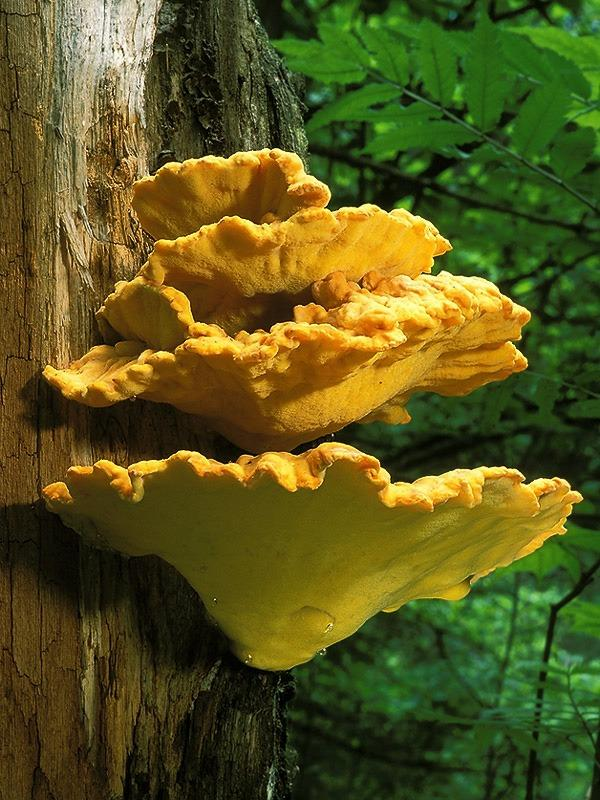Sulphur-yellow tinder fungus: (44, 149, 526, 451), (44, 443, 580, 669), (44, 272, 528, 451), (132, 149, 330, 238)
